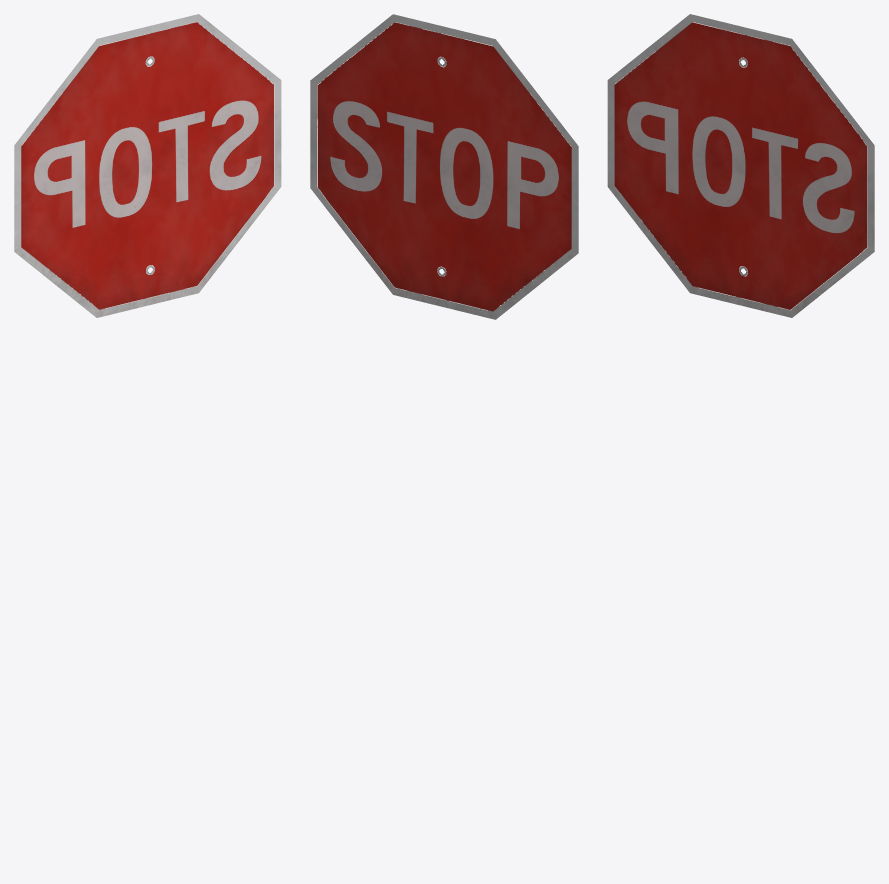
File: GSDSignStop.FBX
The picture shows the model from 3 angles, left to right: view 1: azimuth 30°, elevation 25°; view 2: azimuth 150°, elevation 25°; view 3: azimuth 330°, elevation 25°; orthographic projection.
Visible parts, largest first — view 1: GSDSignStop; view 2: GSDSignStop; view 3: GSDSignStop.
Boxes of the visible parts, x1,y1,x2,y2 form: GSDSignStop: (14, 14, 281, 317); GSDSignStop: (310, 14, 578, 319); GSDSignStop: (607, 14, 874, 317).
Size of the model in its own units: 0.75 by 2.25 by 0.031.
